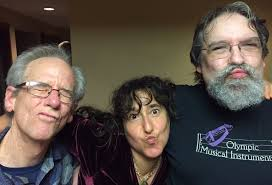middle_eastern_Female: (118, 76, 181, 159)
